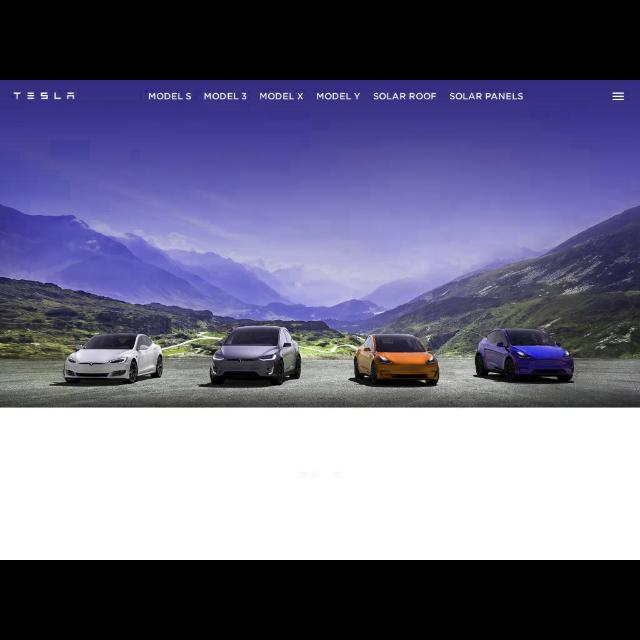backgroundimage: (1, 83, 638, 407)
icon: (608, 90, 626, 102)
image: (10, 88, 78, 102)
text: (448, 90, 524, 102), (373, 89, 437, 101), (316, 90, 360, 104), (259, 91, 303, 103), (203, 90, 247, 102), (148, 92, 192, 101)
toolbar: (1, 81, 639, 107)
